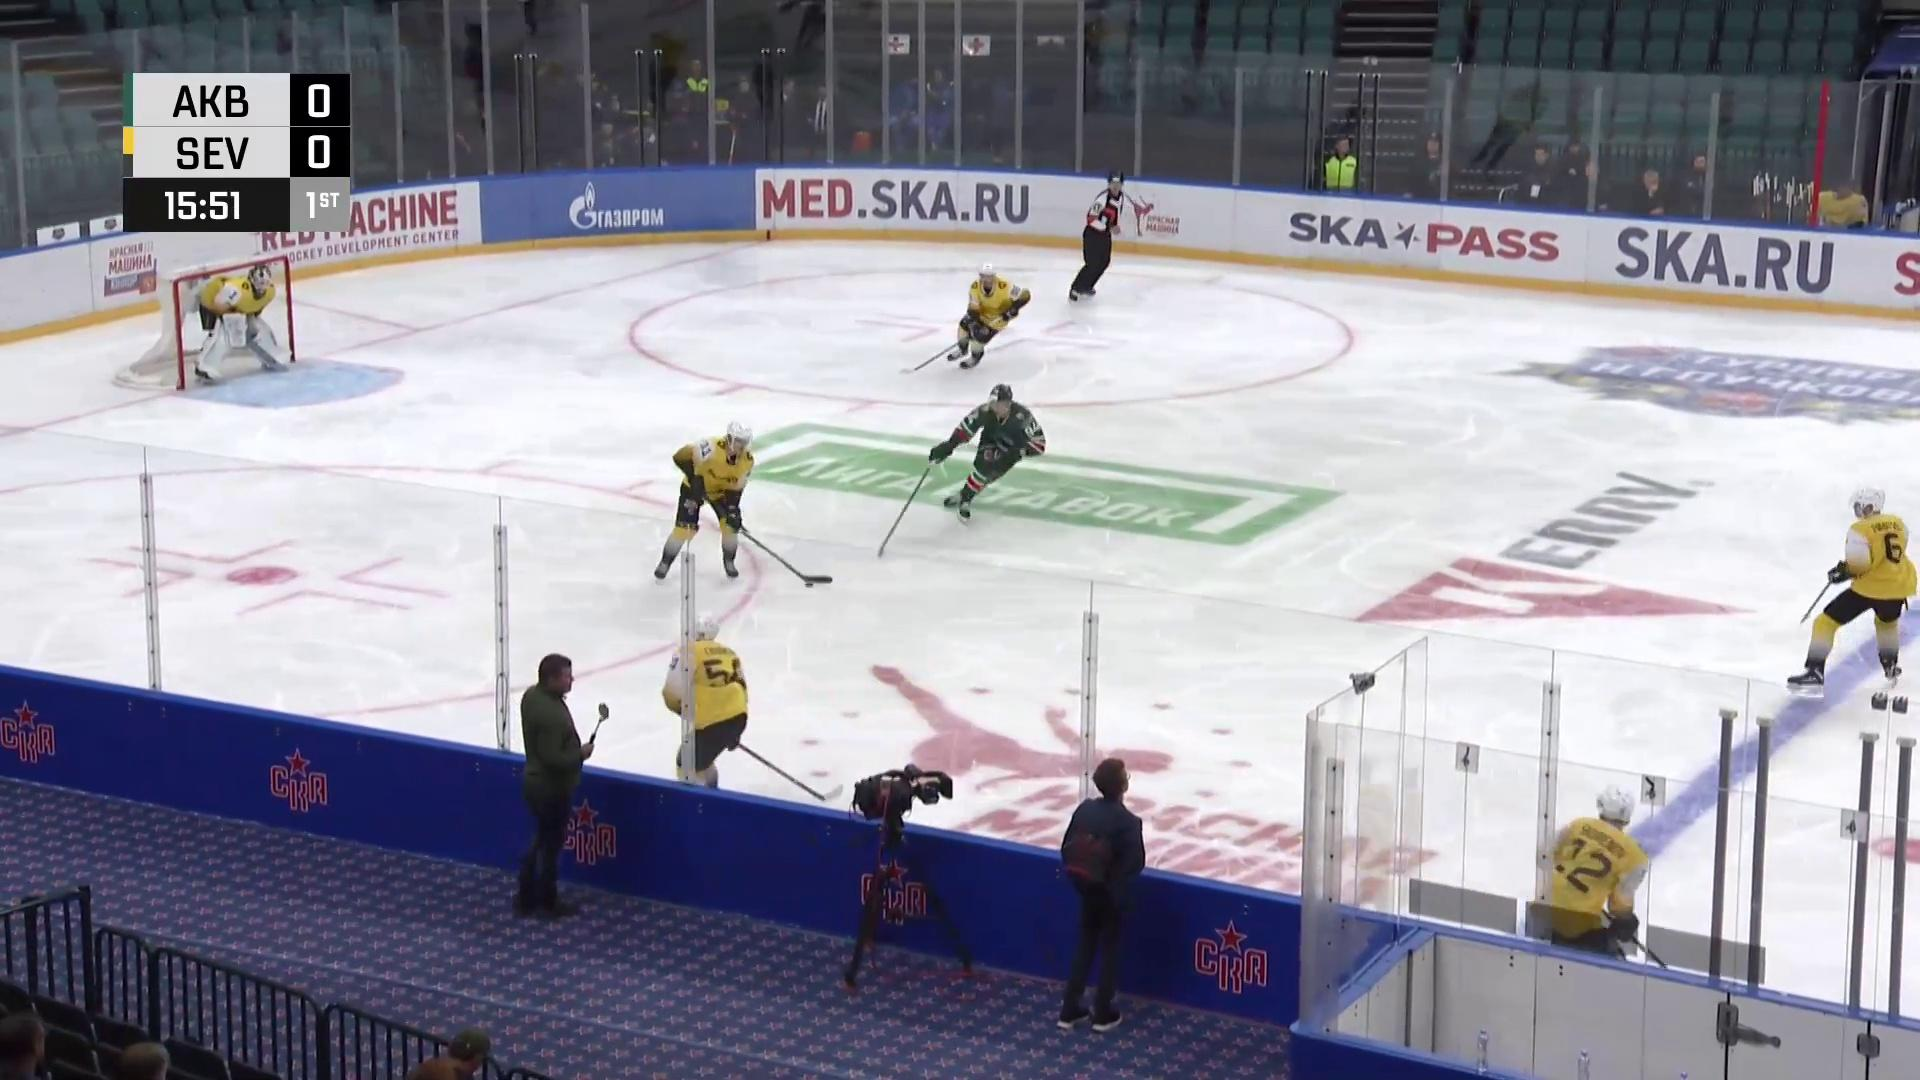ball: (804, 583, 816, 588)
